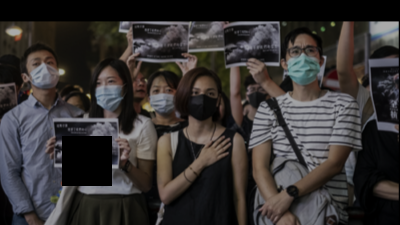with_mask: (286, 42, 320, 86), (186, 86, 219, 124), (93, 74, 124, 112), (27, 55, 60, 89), (149, 83, 175, 115), (247, 86, 270, 109)
